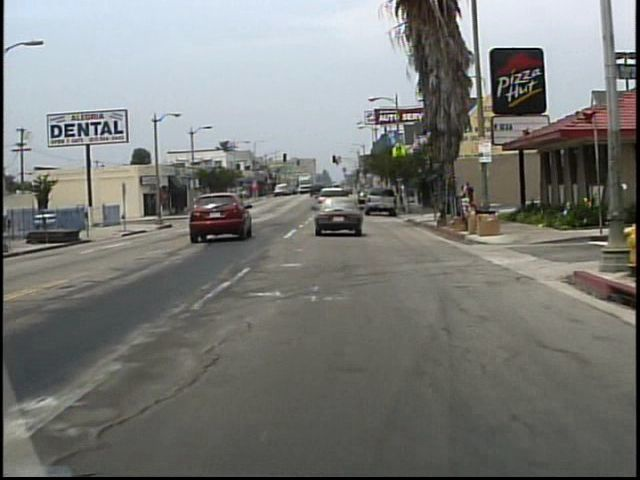person: (467, 181, 476, 211), (462, 184, 469, 208)
